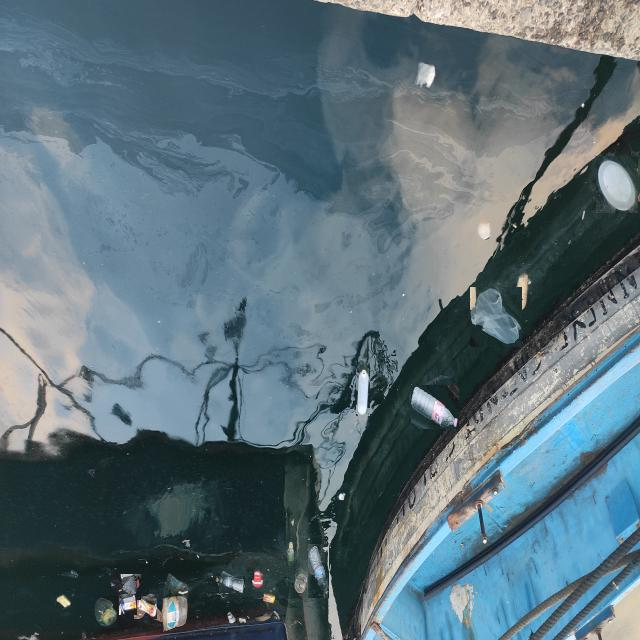Juice box: (119, 594, 137, 615)
Plastic: (596, 156, 638, 213), (414, 59, 437, 92), (57, 569, 79, 580), (180, 538, 192, 549), (338, 491, 347, 502), (273, 609, 280, 621), (178, 589, 188, 595), (238, 616, 245, 624)
Plastic bag: (470, 287, 522, 347), (109, 574, 141, 600), (94, 596, 118, 628)
Plastic bottle: (411, 385, 459, 429), (308, 544, 329, 598), (161, 596, 189, 632), (356, 368, 370, 416), (134, 597, 157, 619), (219, 576, 245, 593), (294, 570, 308, 595), (286, 541, 295, 567)
Plastic cup: (227, 612, 236, 624)
Plastic packaging: (251, 570, 264, 590), (56, 593, 71, 609)
